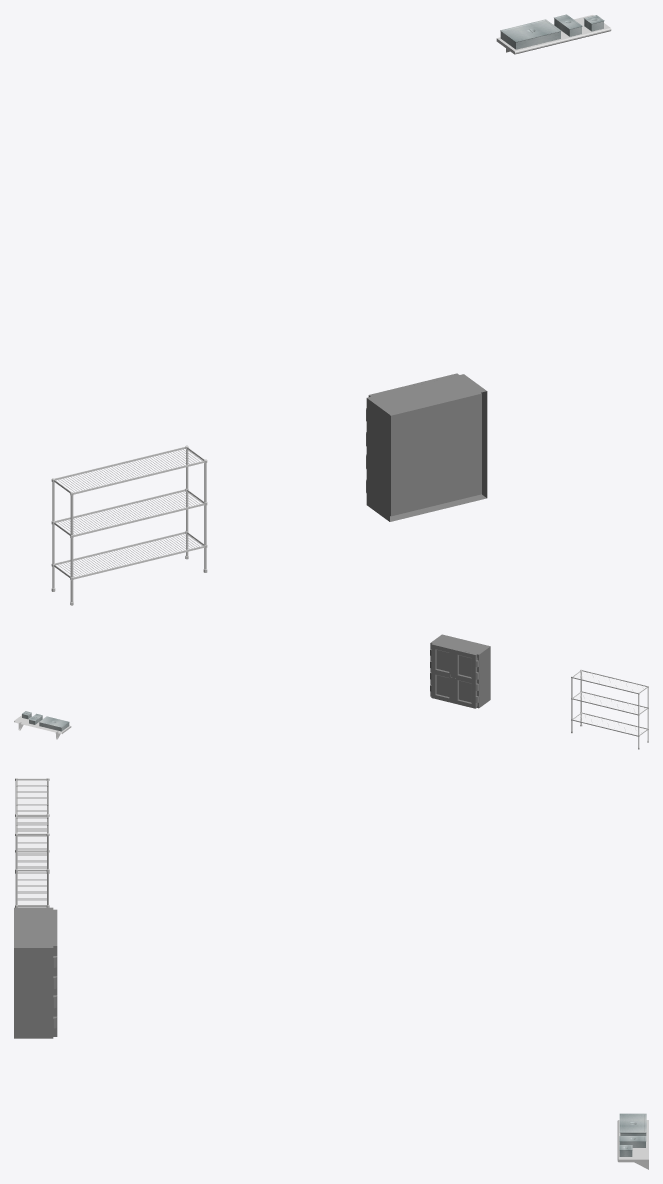
Rendered from Storage.gltf.
3 renders of one model, top to bottom at view 1: azimuth 30°, elevation 25°; view 2: azimuth 150°, elevation 25°; view 3: azimuth 270°, elevation 25°, orthographic. The views are drawn at different scales.
Parts seen in each view (by area): view 1: Storage_cabinet, Storage_shelves; view 2: Storage_shelves, Storage_cabinet_doorR, Storage_cabinet, Storage_cabinet_doorL, Shelf, Container_rect_lid; view 3: Storage_cabinet, Storage_shelves, Shelf, Container_rect_lid.
Boxes of the visible parts, x1,y1,x2,y2 form: Storage_cabinet: (366,374,487,521); Storage_shelves: (51,445,207,605); Storage_shelves: (571,669,648,749); Storage_cabinet_doorR: (453,649,479,708); Storage_cabinet: (430,634,490,708); Storage_cabinet_doorL: (430,643,454,703); Shelf: (14,715,71,739); Container_rect_lid: (39,716,69,727); Storage_cabinet: (14,907,53,1038); Storage_shelves: (15,778,49,907); Shelf: (617,1120,648,1169); Container_rect_lid: (619,1113,646,1132).
Size of the model in its own units: 18.61 by 2.26 by 13.5.
Materials: 3 (1 with a texture image).
